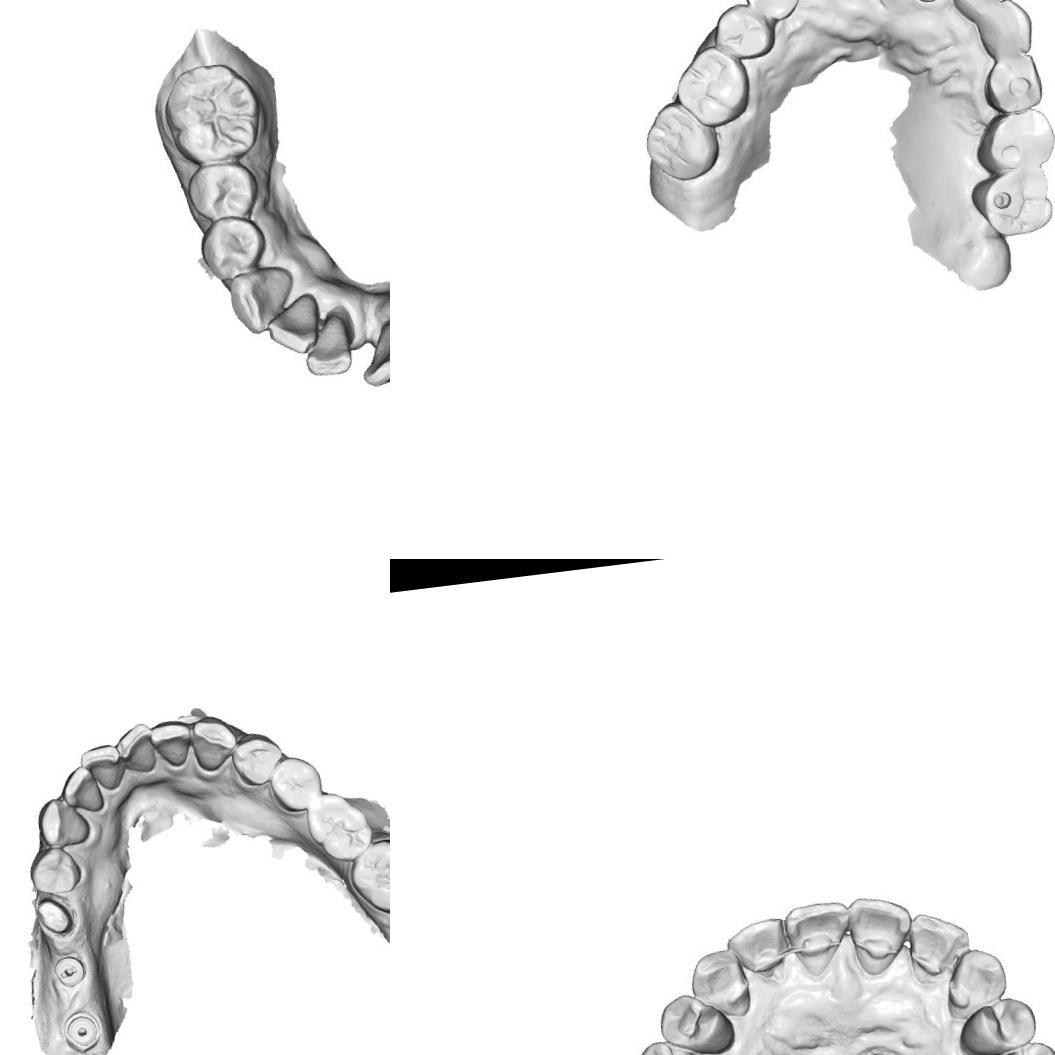canine: (225, 264, 299, 338), (940, 945, 1012, 1021), (686, 946, 754, 1024), (973, 0, 1036, 62), (33, 793, 93, 851), (188, 712, 241, 774), (740, 0, 804, 25)
crown: (33, 894, 76, 939)
implant: (59, 1006, 103, 1055)
implant_minus: (50, 952, 88, 990)
incisor: (845, 891, 918, 979), (781, 897, 856, 980), (904, 907, 976, 988), (303, 309, 364, 385), (723, 916, 791, 979), (269, 294, 317, 354), (112, 720, 158, 776), (59, 762, 106, 816), (78, 742, 125, 795), (148, 718, 195, 770), (362, 319, 390, 386), (947, 0, 1011, 20)
molar: (164, 60, 262, 161), (637, 95, 725, 187), (668, 41, 756, 133), (969, 163, 1055, 241), (969, 105, 1055, 181), (302, 786, 376, 866), (343, 833, 390, 919)
premolar: (182, 154, 267, 228), (655, 988, 737, 1055), (953, 993, 1040, 1055), (979, 53, 1048, 122), (202, 213, 268, 281), (707, 0, 776, 63), (266, 752, 327, 816), (228, 728, 288, 790), (26, 844, 84, 898), (635, 1034, 715, 1055), (976, 1037, 1055, 1055)
